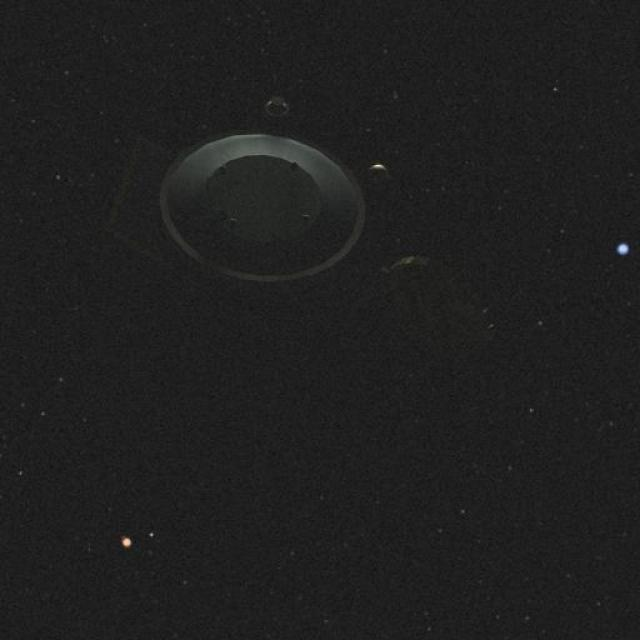cheops: (96, 102, 522, 375)
